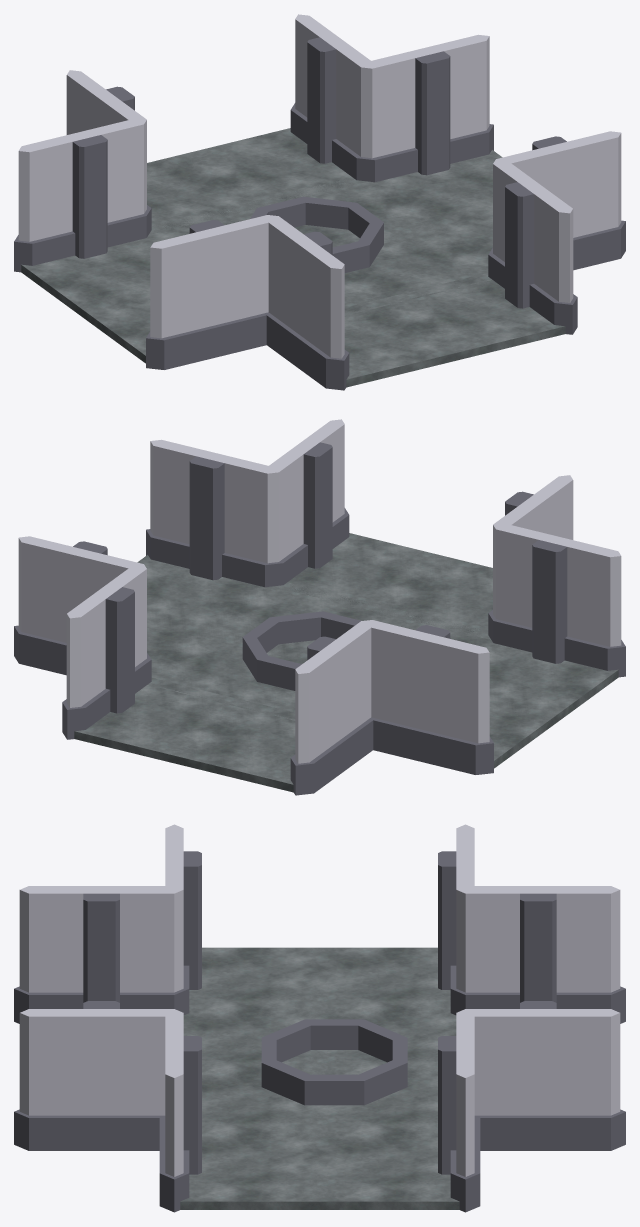
File: intersection_4way_01.fbx
3 renders of one model, top to bottom at view 1: azimuth 30°, elevation 25°; view 2: azimuth 150°, elevation 25°; view 3: azimuth 270°, elevation 25°, orthographic. The views are drawn at different scales.
Visible parts, largest first — view 1: wall_02_89, wall_02_85, wall_02_88, floor_04_82, floor_04_80, floor_01_73, wall_02_87, wall_02_91, wall_02_84, wall_02_90, floor_04_81, floor_04_79 (+2 smaller); view 2: wall_02_85, wall_02_84, wall_02_88, floor_04_80, floor_04_82, floor_01_73, wall_02_86, wall_02_90, wall_02_89, wall_02_91, floor_04_81, floor_04_79 (+2 smaller); view 3: floor_01_73, wall_02_90, wall_02_91, wall_02_86, wall_02_87, floor_04_79, floor_04_81, fountain_02_92, wall_02_89, wall_02_84, wall_02_85, wall_02_88.
Part boxes in pixels (x1,y1,x2,y2): wall_02_89: (356, 34, 493, 182); wall_02_85: (146, 215, 278, 369); wall_02_88: (14, 118, 150, 272); floor_04_82: (344, 273, 565, 387); floor_04_80: (147, 128, 364, 234); floor_01_73: (140, 177, 491, 315); wall_02_87: (264, 215, 349, 390); wall_02_91: (488, 159, 577, 334); wall_02_84: (489, 131, 625, 270); wall_02_90: (290, 14, 376, 179); floor_04_81: (21, 240, 150, 363); floor_04_79: (364, 150, 502, 271); wall_02_85: (488, 523, 625, 677); wall_02_84: (146, 439, 283, 587); wall_02_88: (363, 620, 493, 774); floor_04_80: (74, 678, 295, 792); floor_04_82: (276, 533, 492, 639); floor_01_73: (148, 582, 499, 720); wall_02_86: (290, 620, 375, 795); wall_02_90: (62, 564, 151, 739); wall_02_89: (14, 536, 150, 675); wall_02_91: (264, 419, 349, 584); floor_04_81: (489, 645, 618, 768); floor_04_79: (137, 555, 275, 676); floor_01_73: (183, 1009, 456, 1139); wall_02_90: (457, 1001, 625, 1150); wall_02_91: (14, 1001, 183, 1150); wall_02_86: (450, 886, 625, 1023); wall_02_87: (14, 886, 188, 1023); floor_04_79: (180, 1132, 459, 1209); floor_04_81: (184, 947, 455, 1016); fountain_02_92: (261, 1019, 407, 1105); wall_02_89: (438, 1009, 480, 1212); wall_02_84: (159, 1009, 201, 1212); wall_02_85: (165, 824, 201, 1015); wall_02_88: (438, 824, 474, 994).
Bounding box in the file's own units: 42.05 × 10 × 42.05.
